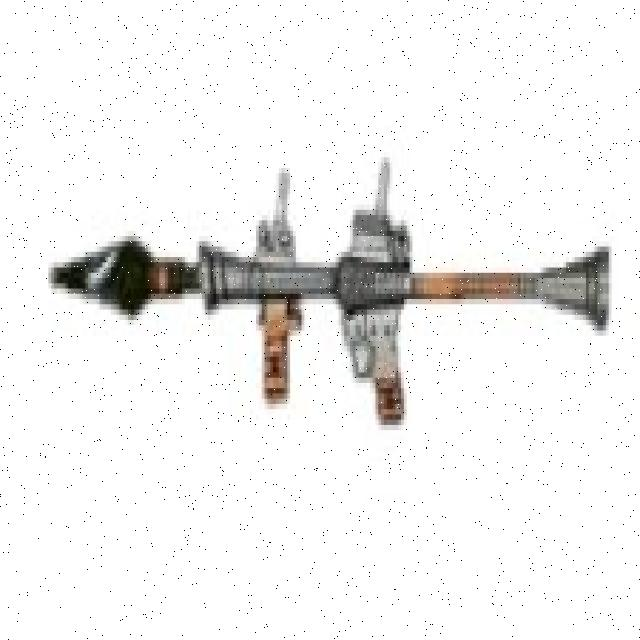bazooka: (45, 140, 622, 436)
